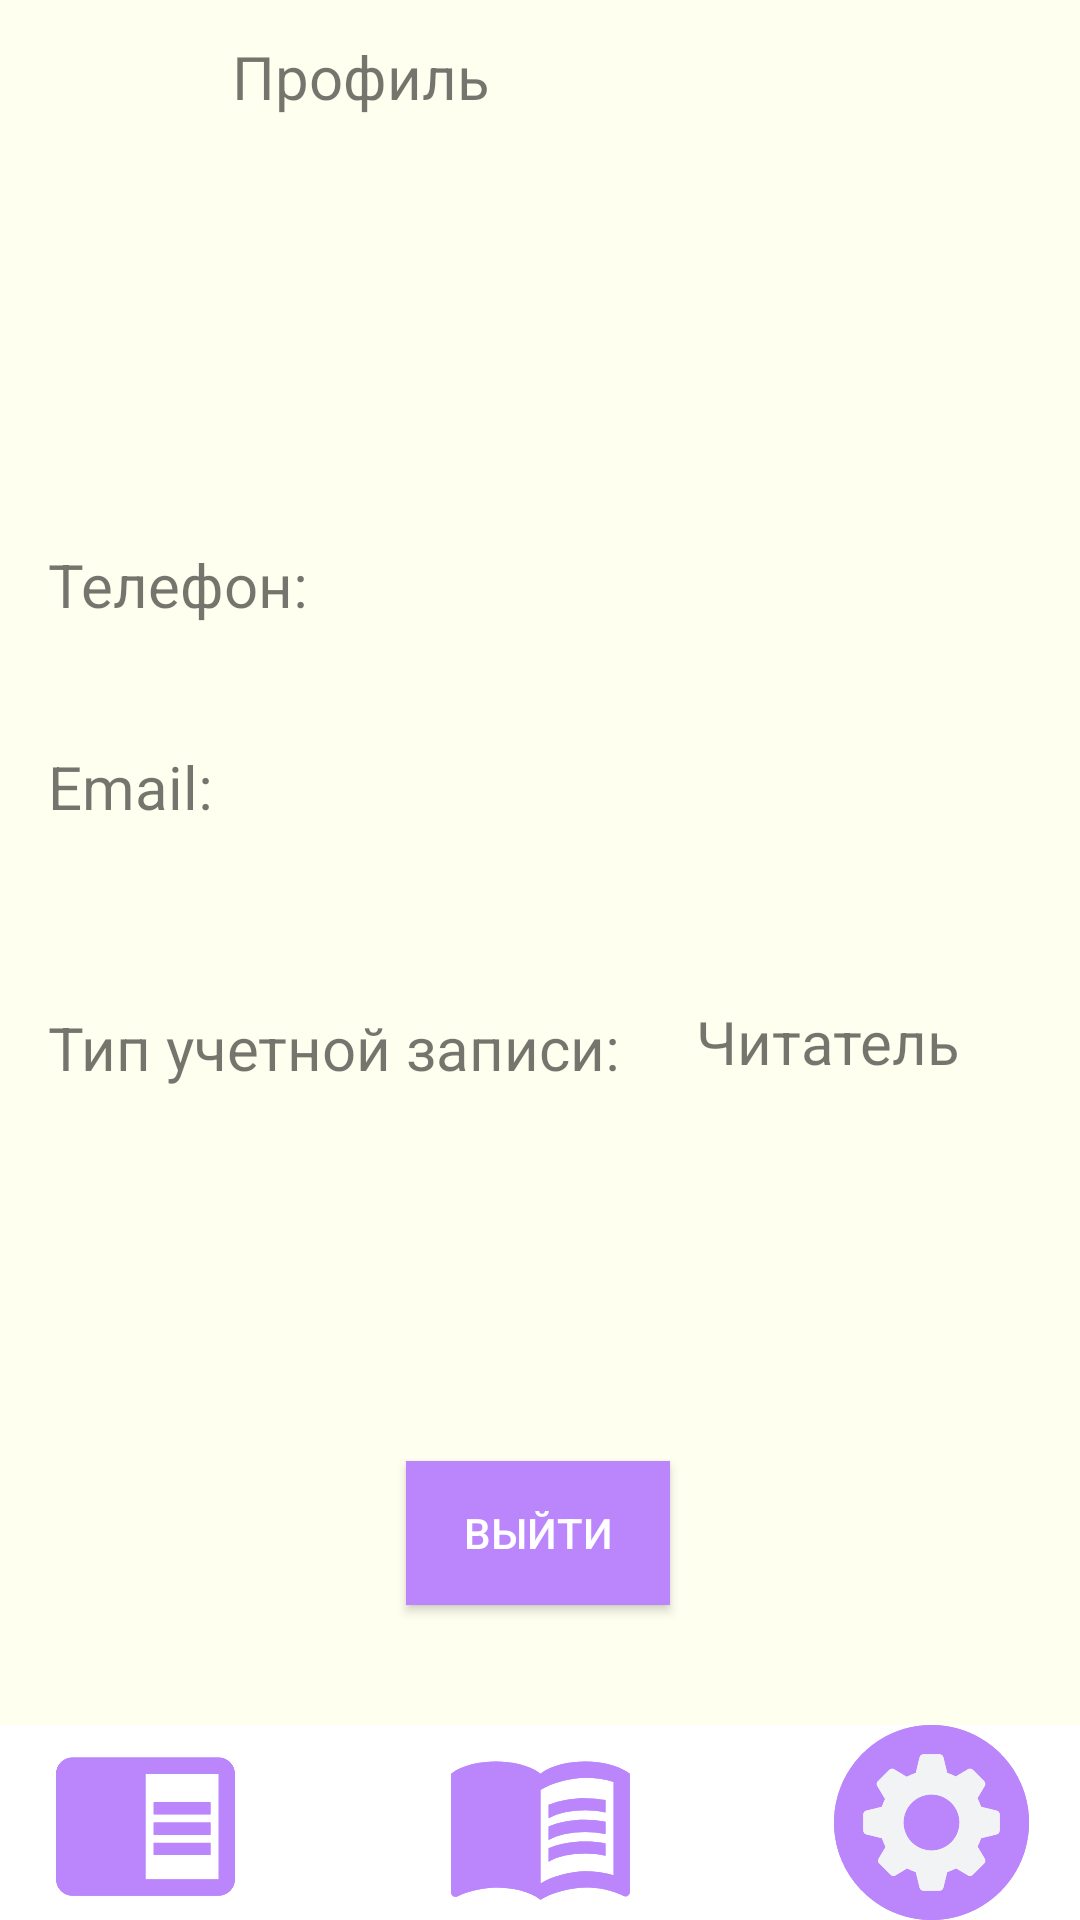

Where icons sit on this 1080px x 1920px app screen, as [left=x1, top=y1, right=x2, bottom=y2]:
Books: [left=451, top=1761, right=630, bottom=1900]
Settings: [left=834, top=1725, right=1029, bottom=1920]
